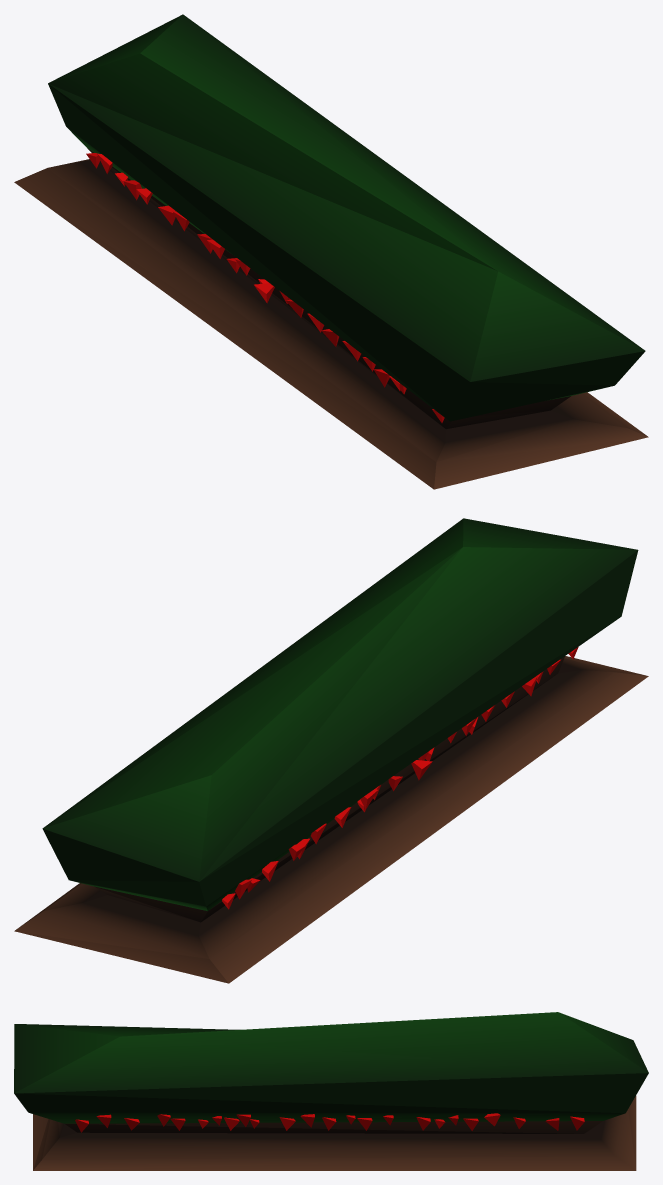
Rendered from c_crop_strawberry_aa.fbx.
3 renders of one model, top to bottom at view 1: azimuth 30°, elevation 25°; view 2: azimuth 150°, elevation 25°; view 3: azimuth 270°, elevation 25°, orthographic. The views are drawn at different scales.
Visible parts, largest first — view 1: c_crop_strawberry_aa; view 2: c_crop_strawberry_aa; view 3: c_crop_strawberry_aa.
Part boxes in pixels (x1=…): c_crop_strawberry_aa: x1=14, y1=14, x2=648, y2=489; c_crop_strawberry_aa: x1=14, y1=518, x2=648, y2=983; c_crop_strawberry_aa: x1=14, y1=1012, x2=648, y2=1170.
Size of the model in its own units: 1.57 by 1.05 by 5.57.
